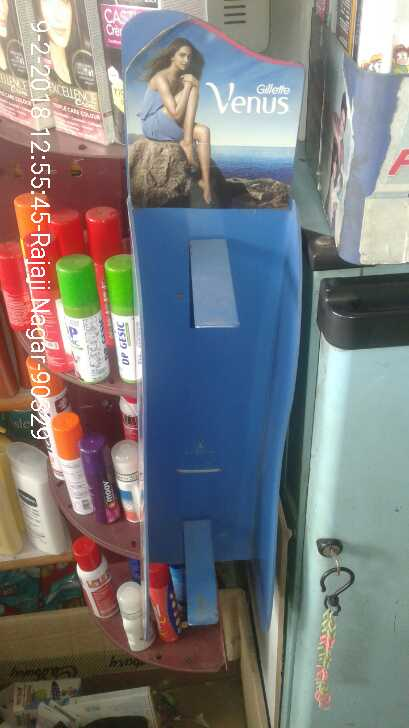reject: (120, 213, 278, 497)
